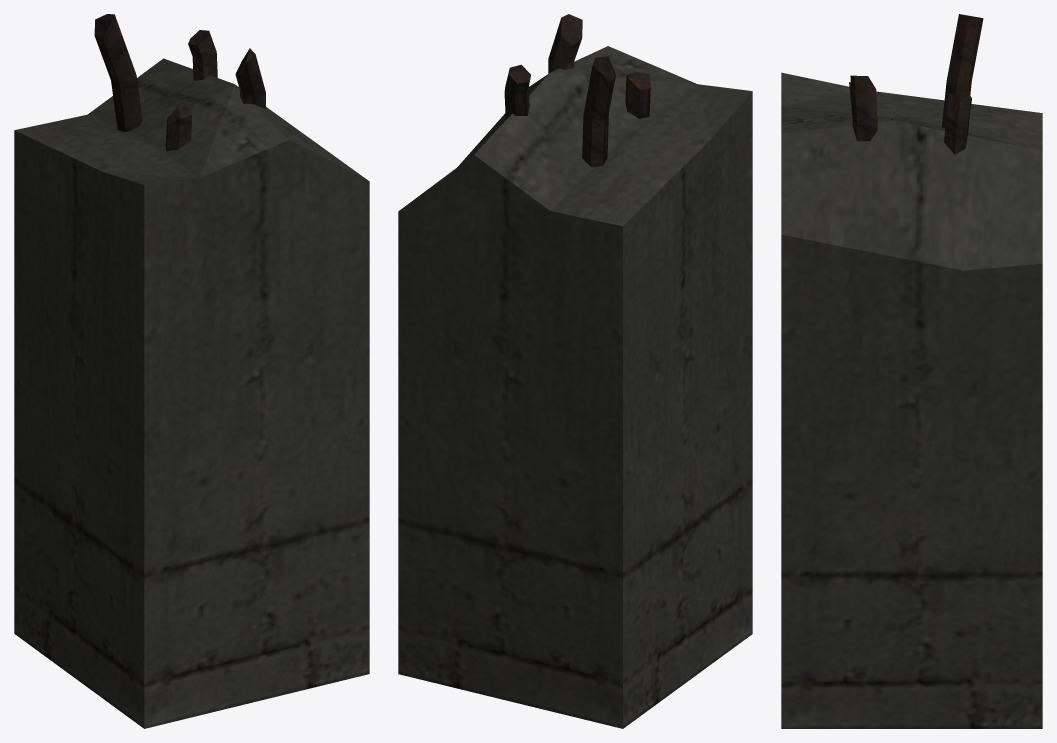
The model's file is pillar_rg_1_broken.dae.
3 renders of one model, left to right at view 1: azimuth 30°, elevation 25°; view 2: azimuth 150°, elevation 25°; view 3: azimuth 270°, elevation 25°, orthographic.
Parts seen in each view (by area): view 1: pillar_rg_1_broken; view 2: pillar_rg_1_broken; view 3: pillar_rg_1_broken.
Boxes of the visible parts, bbox=[...] form: pillar_rg_1_broken: bbox=[14, 14, 369, 728]; pillar_rg_1_broken: bbox=[398, 14, 752, 728]; pillar_rg_1_broken: bbox=[781, 14, 1042, 728].
Bounding box in the file's own units: 0.6 × 0.6 × 1.6.
Materials: 2 (2 with a texture image).
